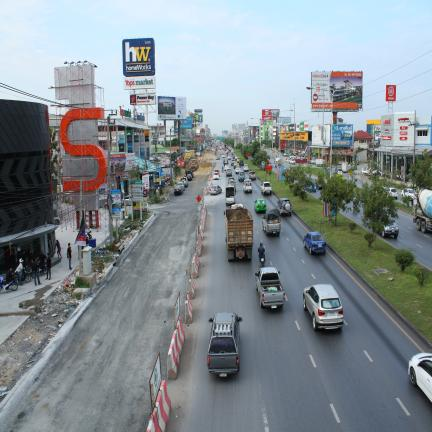car: (303, 284, 343, 330), (304, 232, 326, 254), (277, 198, 292, 216), (385, 187, 398, 199), (401, 188, 415, 199), (210, 185, 222, 195), (228, 180, 236, 193), (174, 184, 183, 195), (178, 181, 185, 191), (181, 177, 188, 187), (238, 172, 245, 181), (186, 173, 193, 181), (213, 172, 219, 180), (243, 164, 249, 172), (235, 166, 241, 174), (228, 176, 235, 182), (337, 168, 343, 174), (214, 169, 220, 174), (215, 156, 220, 160), (228, 155, 231, 160)
human: (30, 260, 41, 285), (15, 258, 23, 285), (46, 253, 52, 280), (258, 243, 265, 262), (67, 243, 72, 269), (56, 239, 62, 259)
motorbike: (0, 274, 18, 292), (21, 268, 32, 282), (36, 260, 46, 274), (259, 254, 265, 266), (259, 255, 265, 266), (14, 273, 18, 276), (32, 275, 32, 276)
pickup: (207, 312, 242, 376), (255, 267, 285, 308), (261, 182, 272, 195), (228, 180, 236, 192), (185, 170, 194, 178), (249, 171, 256, 180), (226, 168, 232, 176), (238, 159, 244, 166), (231, 160, 234, 166)
taxi: (254, 198, 266, 213), (234, 162, 239, 168)
truck: (225, 208, 253, 261), (411, 188, 432, 233), (262, 208, 281, 235), (226, 186, 235, 205), (243, 179, 252, 193), (189, 159, 199, 170), (341, 162, 348, 172)
